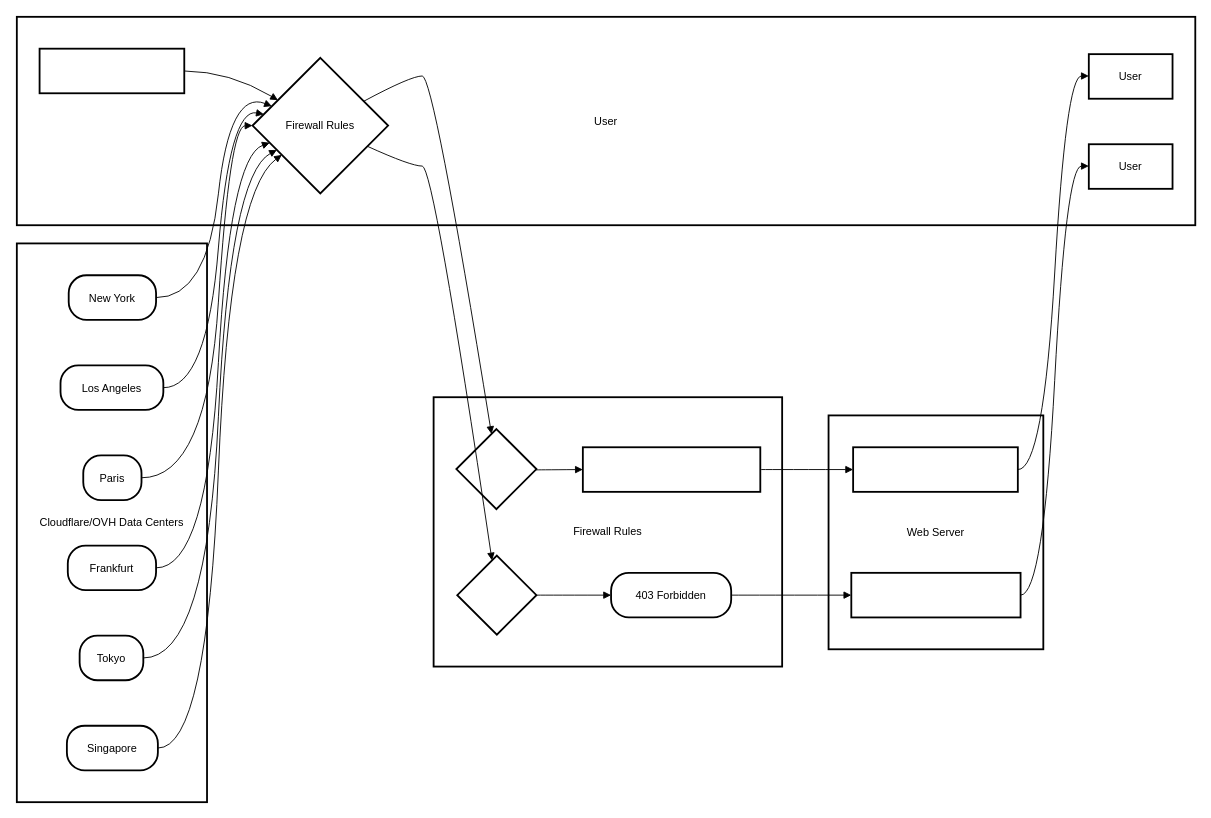
The diagram is 1211 pixels wide and 818 high, and some of its shapes have lost their labels. The centre of each missing label's shape, as x and y in pixels:
"Allow" goes at [496,469].
"Block" goes at [496,594].
"HTTP Request" goes at [111,70].
"Pass to Web Server" goes at [671,469].
"Return Error Page" goes at [935,594].
"Return Web Page" goes at [935,469].
